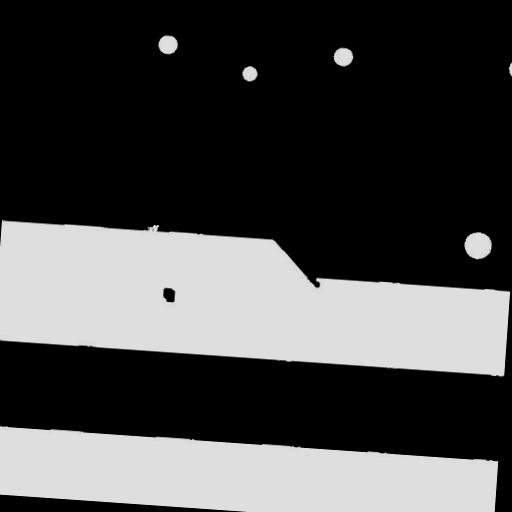copper: (154, 280, 182, 310)
mousebite: (132, 216, 168, 242)
pin-hole: (233, 57, 266, 90)
spur: (298, 266, 328, 296)
